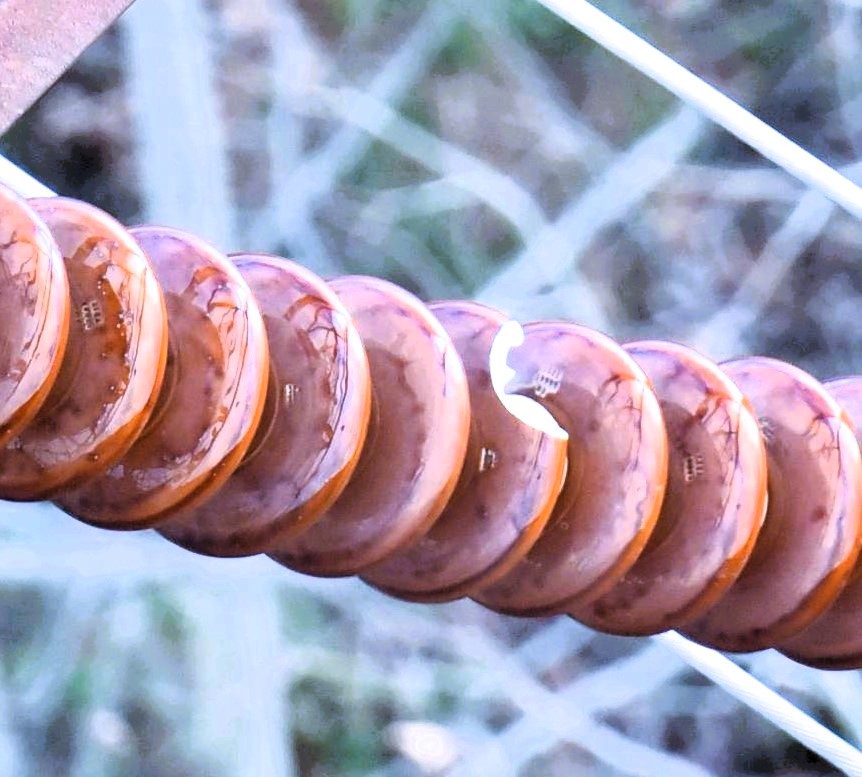insulator breakage: (367, 292, 577, 605)
